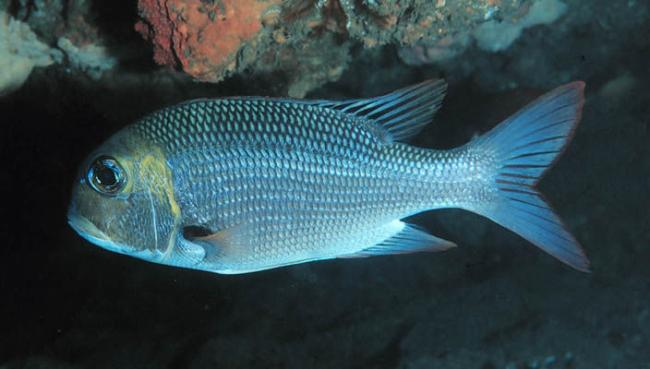fish: (66, 78, 594, 274)
